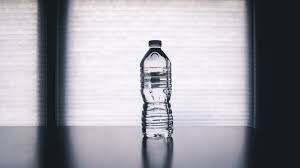plasticbottle: (133, 38, 177, 141)
